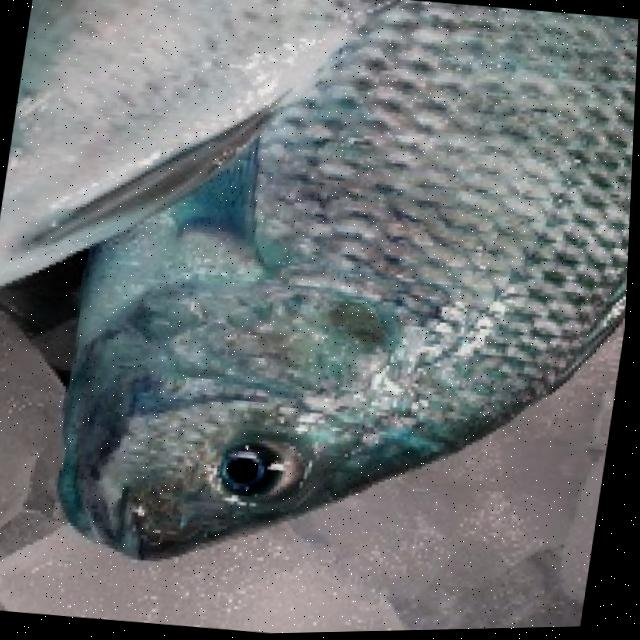Fresh: (34, 0, 640, 571)
